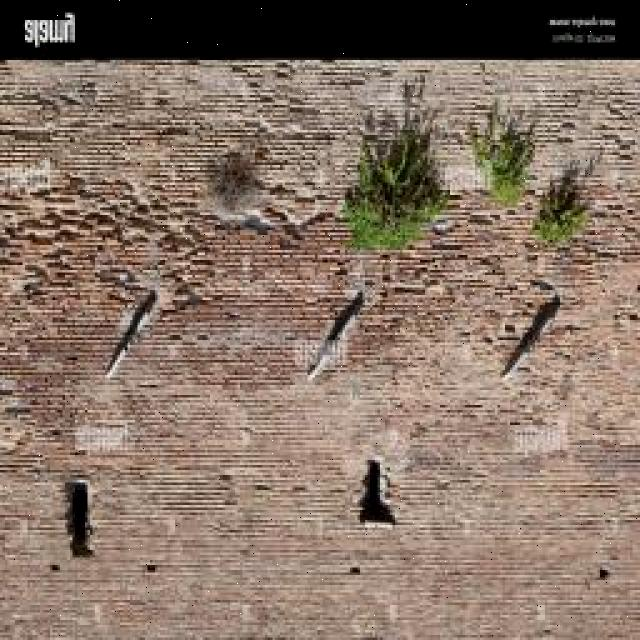vegetation: (336, 117, 458, 250), (465, 108, 537, 206)
